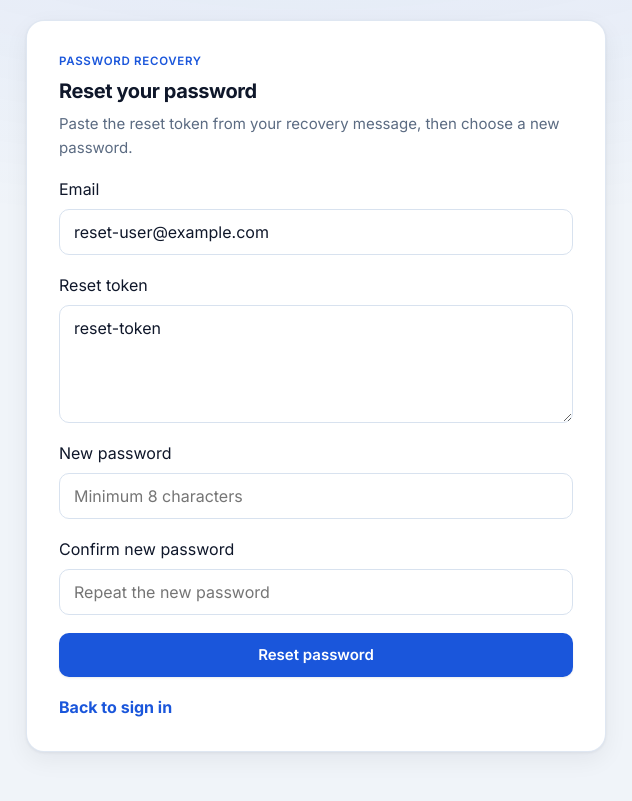
it: ResetPasswordPageComponent › does not submit when password confirmation does not match
The image size is (632, 801).
Type "NewPassword123!" into the password field named "newPassword" at (316,496), box top-left (59, 473), bottom-right (573, 519)
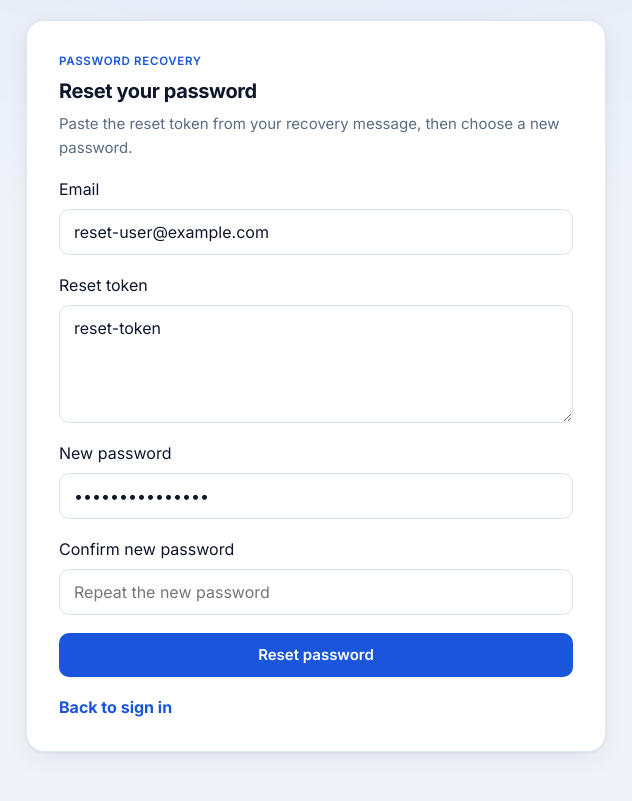
Type "DifferentPassword123!" into the password field named "confirmPassword" at (316,592), box top-left (59, 569), bottom-right (573, 615)
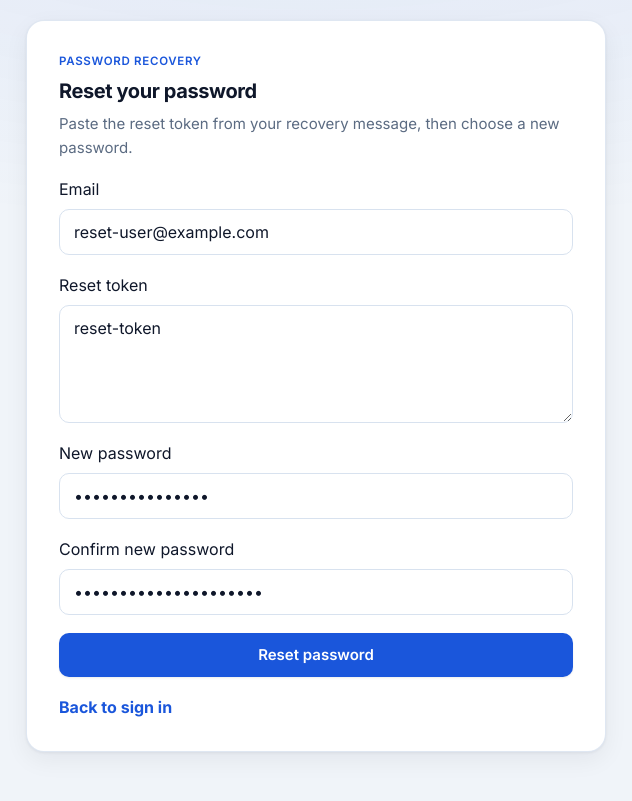
Submit the form
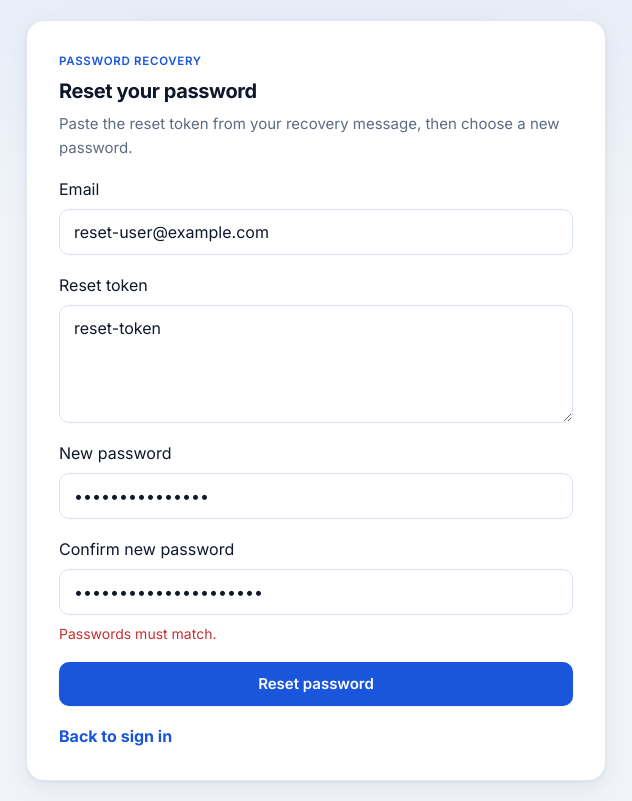
Expected: the text "Passwords must match" is shown, top-left (59, 625), bottom-right (216, 642)
